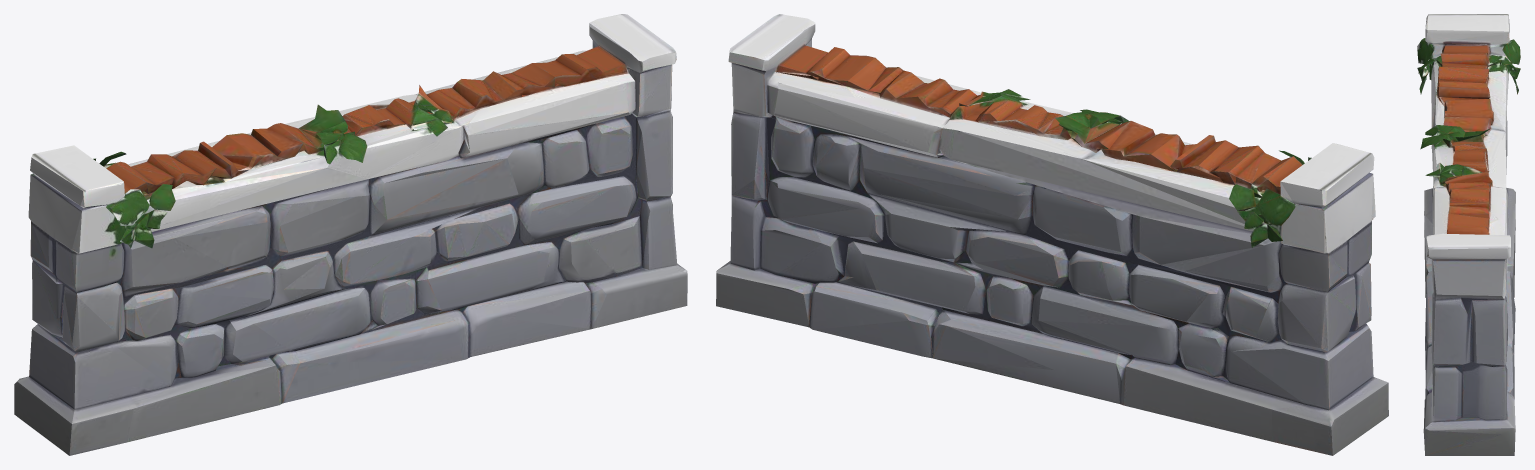
Rendered from wall.glb.
3 renders of one model, left to right at view 1: azimuth 30°, elevation 25°; view 2: azimuth 150°, elevation 25°; view 3: azimuth 270°, elevation 25°, orthographic. The views are drawn at different scales.
Visible parts, largest first — view 1: wall; view 2: wall; view 3: wall.
Part boxes in pixels (x1,y1,x2,y2): wall: (14,14,687,455); wall: (716,14,1388,455); wall: (1417,14,1520,455).
Size of the model in its own units: 7.97 by 3.2 by 1.45.
1 material, 1 textured.
